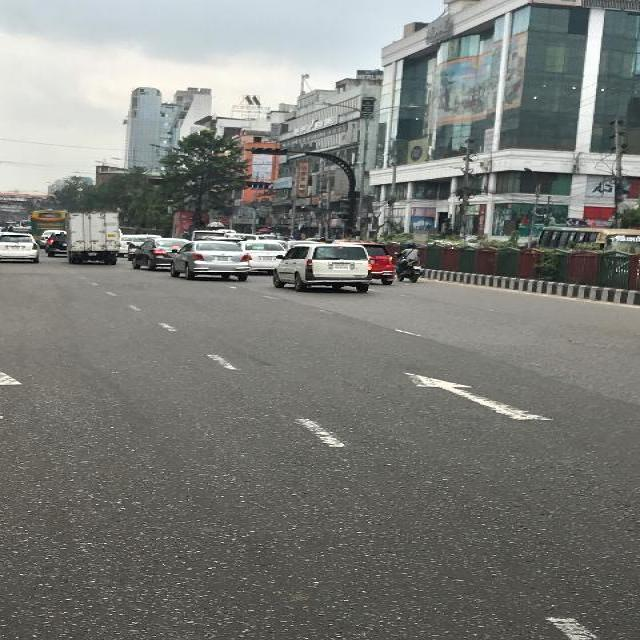bike: (396, 242, 422, 284)
vehicle: (272, 244, 376, 294), (170, 241, 251, 283), (66, 211, 120, 267), (534, 227, 639, 251), (338, 241, 395, 285), (130, 238, 190, 272), (239, 240, 287, 275), (1, 233, 41, 265), (32, 210, 66, 240), (126, 235, 161, 261), (46, 231, 66, 259)
